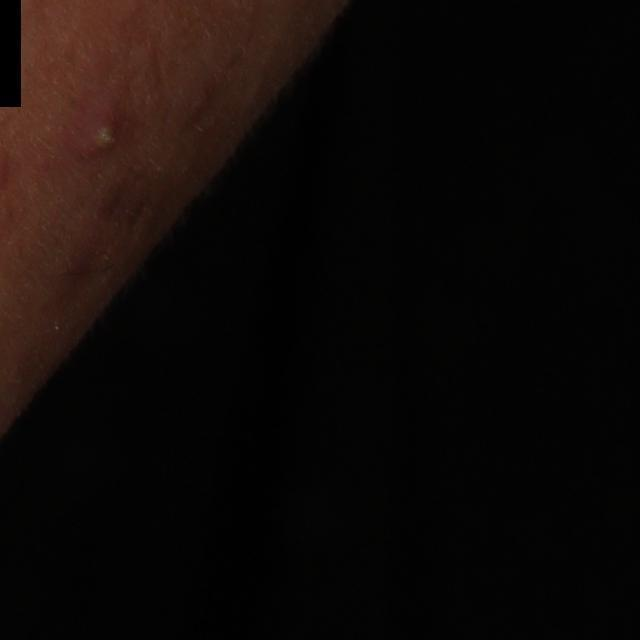pustule: (63, 97, 134, 170)
